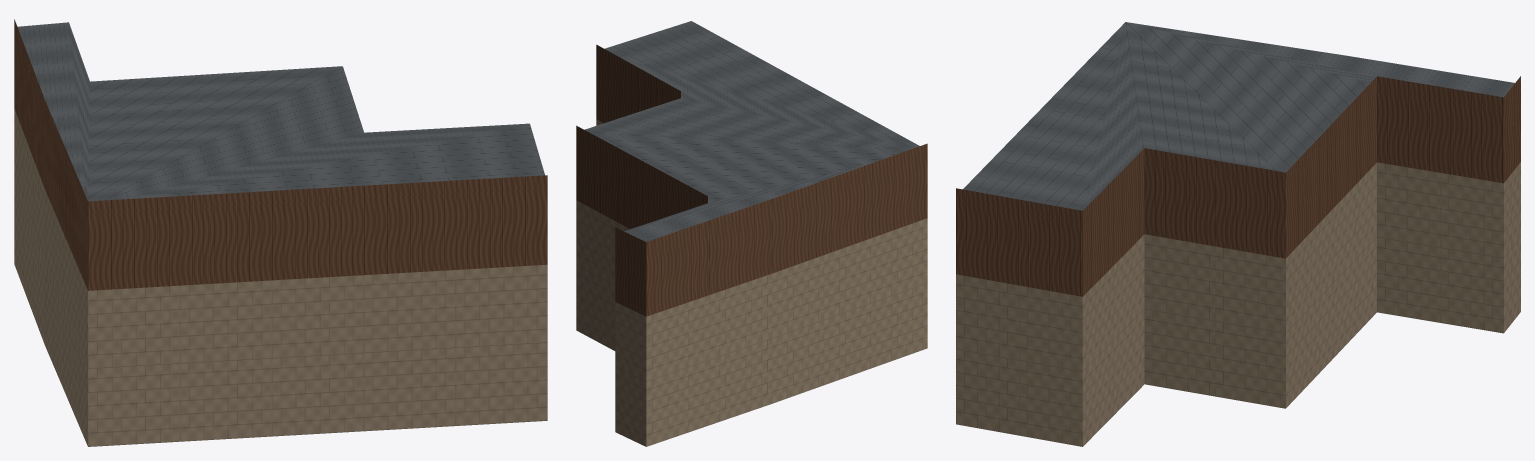
File: bld_c44_48_183.gltf
3 renders of one model, left to right at view 1: azimuth 30°, elevation 25°; view 2: azimuth 150°, elevation 25°; view 3: azimuth 270°, elevation 25°, orthographic. The views are drawn at different scales.
Parts seen in each view (by area): view 1: bld_c44_48_183; view 2: bld_c44_48_183; view 3: bld_c44_48_183.
Boxes of the visible parts, bbox=[...] form: bld_c44_48_183: bbox=[14, 19, 547, 446]; bld_c44_48_183: bbox=[576, 21, 927, 446]; bld_c44_48_183: bbox=[956, 22, 1520, 446].
Size of the model in its own units: 12.66 by 7.08 by 15.35.
Materials: 4 (4 with a texture image).
